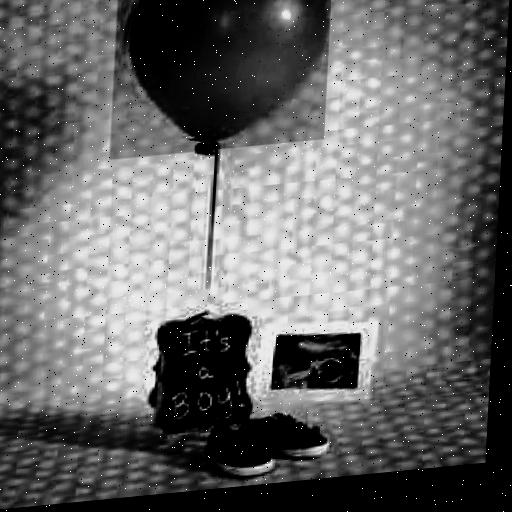balloon: (109, 0, 333, 160)
